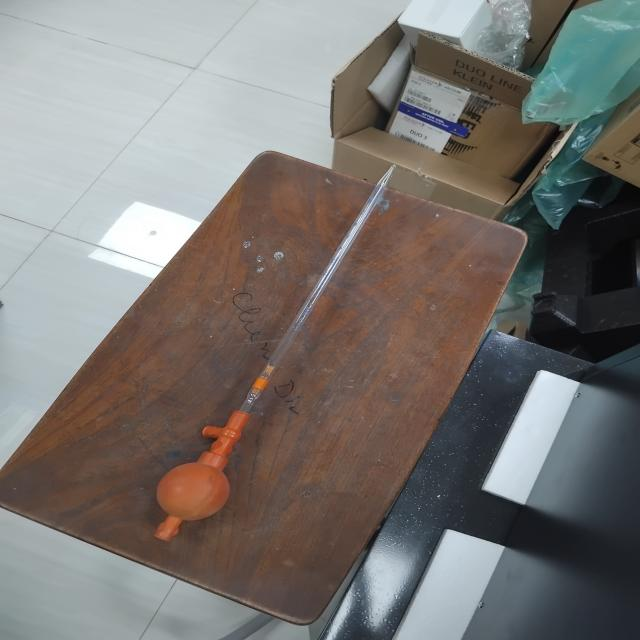Volumetric_Pipet: (125, 136, 418, 570)
